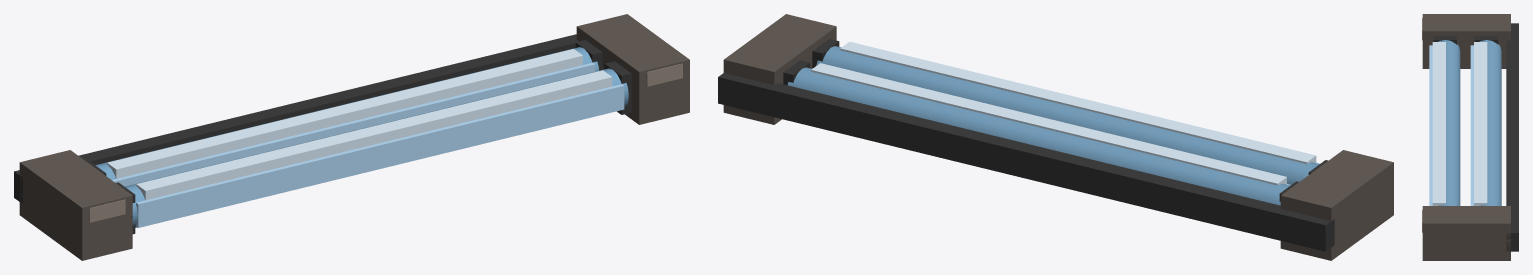
The model's file is CMU3DWallBlueDoubleLight.glb.
3 renders of one model, left to right at view 1: azimuth 30°, elevation 25°; view 2: azimuth 150°, elevation 25°; view 3: azimuth 270°, elevation 25°, orthographic. The views are drawn at different scales.
Visible parts, largest first — view 1: Tube 2 glass front, Tube 2 glass highlight, Tube 1 glass highlight, Left end fitting, Narrow wall rail, Right end fitting, Tube 1 glass front, Tube 2 glass body, Tube 1 glass body, Left end highlight, Right end highlight, Tube 2 right socket; view 2: Narrow wall rail, Tube 1 glass body, Tube 2 glass body, Left end fitting, Tube 2 glass highlight, Tube 1 glass highlight, Right end fitting; view 3: Right end fitting, Left end fitting, Narrow wall rail, Tube 1 glass body, Tube 2 glass body, Tube 2 glass highlight, Tube 1 glass highlight, Tube 1 glass front, Tube 2 glass front, Tube 1 left socket, Tube 2 left socket.
Boxes of the visible parts, <box> form: Tube 2 glass front: <box>136,84,624,227</box>; Tube 2 glass highlight: <box>136,70,612,200</box>; Tube 1 glass highlight: <box>107,49,582,178</box>; Left end fitting: <box>19,150,132,260</box>; Narrow wall rail: <box>14,34,578,203</box>; Right end fitting: <box>576,14,689,124</box>; Tube 1 glass front: <box>112,62,595,186</box>; Tube 2 glass body: <box>125,68,628,227</box>; Tube 1 glass body: <box>95,47,598,179</box>; Left end highlight: <box>89,199,125,222</box>; Right end highlight: <box>646,63,682,86</box>; Tube 2 right socket: <box>604,61,631,114</box>; Narrow wall rail: <box>718,73,1334,251</box>; Tube 1 glass body: <box>787,67,1290,205</box>; Tube 2 glass body: <box>816,46,1319,184</box>; Left end fitting: <box>1280,150,1393,260</box>; Tube 2 glass highlight: <box>840,41,1316,163</box>; Tube 1 glass highlight: <box>811,63,1286,185</box>; Right end fitting: <box>723,14,836,124</box>; Right end fitting: <box>1422,206,1510,260</box>; Left end fitting: <box>1422,14,1510,68</box>; Narrow wall rail: <box>1506,23,1518,251</box>; Tube 1 glass body: <box>1479,40,1501,205</box>; Tube 2 glass body: <box>1438,40,1460,205</box>; Tube 2 glass highlight: <box>1432,42,1445,205</box>; Tube 1 glass highlight: <box>1474,42,1487,205</box>; Tube 1 glass front: <box>1470,45,1473,205</box>; Tube 2 glass front: <box>1429,45,1432,205</box>; Tube 1 left socket: <box>1474,36,1498,44</box>; Tube 2 left socket: <box>1433,36,1456,44</box>.
Bounding box in the file's own units: 0.75 × 0.0625 × 0.1465.
